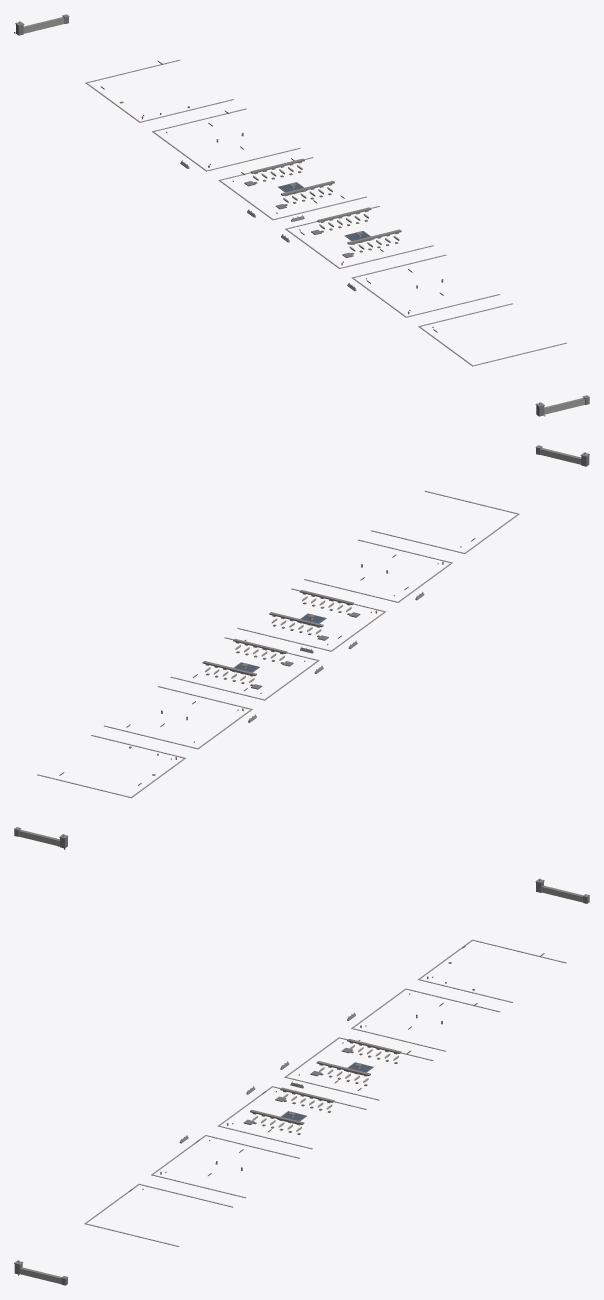
Rendered from city_cell_0_0.glb.
3 renders of one model, top to bottom at view 1: azimuth 30°, elevation 25°; view 2: azimuth 150°, elevation 25°; view 3: azimuth 330°, elevation 25°, orthographic.
Visible parts, largest first — view 1: Cube.011; view 2: Cube.011; view 3: Cube.011.
Boxes of the visible parts, x1,y1,x2,y2 form: Cube.011: (14,14,589,416); Cube.011: (14,445,589,849); Cube.011: (14,878,589,1285).
Bounding box in the file's own units: 50.45 × 6.15 × 434.
